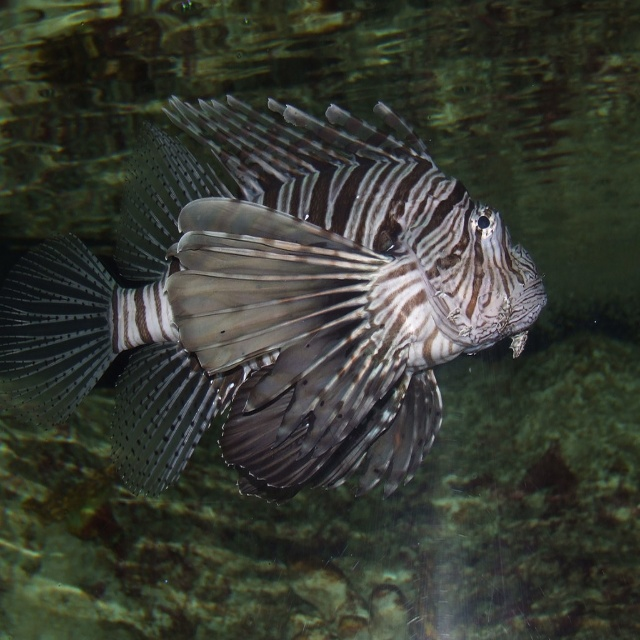Fish: (0, 92, 550, 505)
